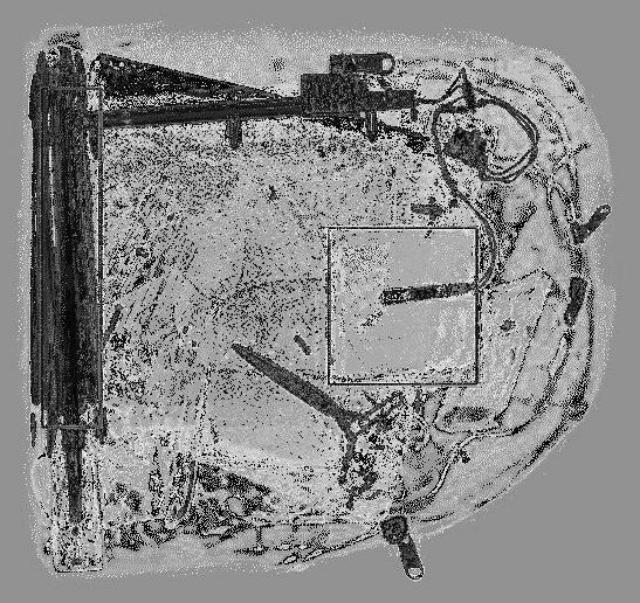Knife: (222, 340, 406, 481)
